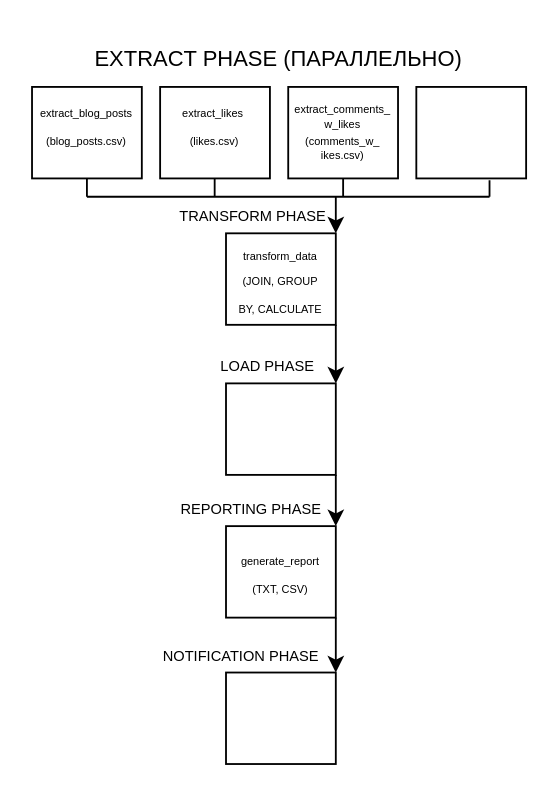
This 558x796 diagram has some shape labels left out. Each missing label, with the box of its shape:
extract_comments_ wo_likes (comments_wo_ ikes.csv): (414, 85, 526, 178)
load_to_database (SQLite): (224, 382, 336, 475)
send_email_ notification (HTML+Attach): (224, 671, 336, 764)
